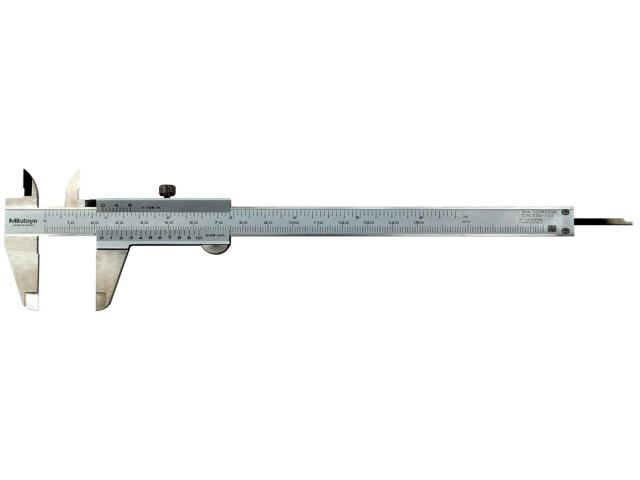Calipers: (5, 172, 631, 310)
